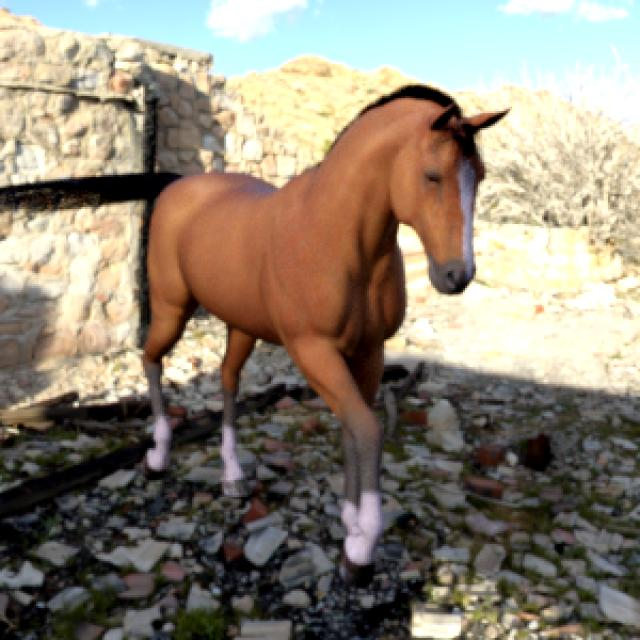horse: (1, 88, 508, 584)
